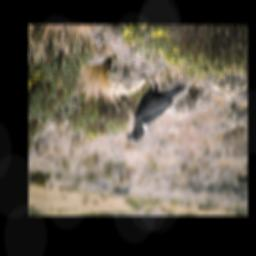Crow: (125, 72, 187, 144)
